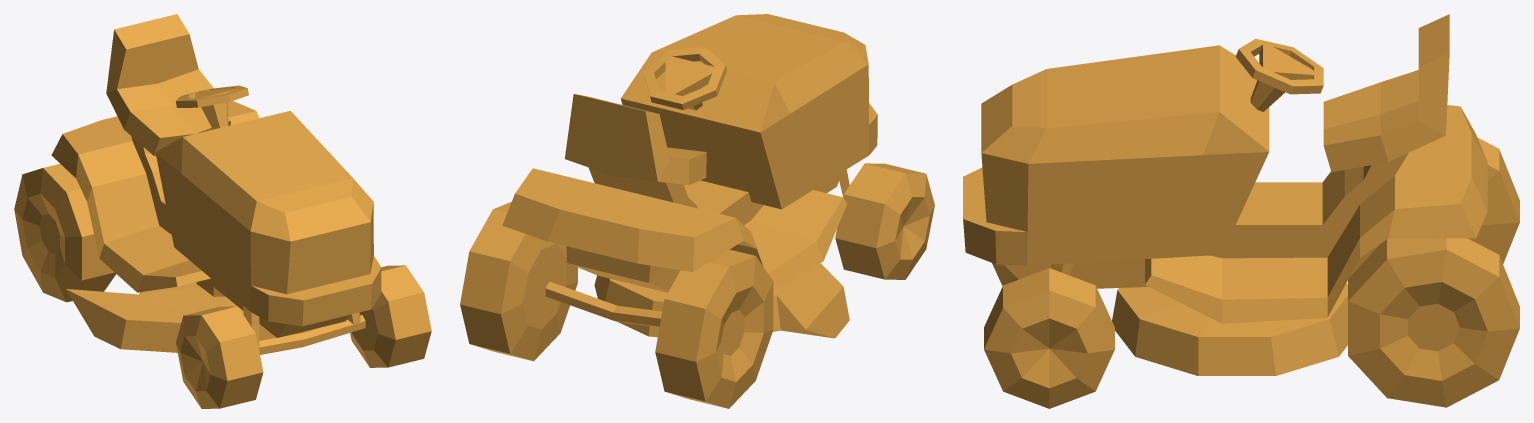
Rendered from lawn-mower-ride.glb.
3 views of the same model, side by side, from view 1: azimuth 30°, elevation 25°; view 2: azimuth 150°, elevation 25°; view 3: azimuth 270°, elevation 25° (orthographic). The views are drawn at different scales.
Parts seen in each view (by area): view 1: lawn-mower-ride-base, lawn-mower-ride_BR, lawn-mower-ride_FR, lawn-mower-ride_FL; view 2: lawn-mower-ride-base, lawn-mower-ride_BR, lawn-mower-ride_BL, lawn-mower-ride_FR; view 3: lawn-mower-ride-base, lawn-mower-ride_BL, lawn-mower-ride_FL, lawn-mower-ride_BR.
Boxes of the visible parts, x1,y1,x2,y2 form: lawn-mower-ride-base: (51, 14, 381, 354); lawn-mower-ride_BR: (14, 164, 115, 302); lawn-mower-ride_FR: (176, 306, 263, 408); lawn-mower-ride_FL: (350, 265, 431, 367); lawn-mower-ride-base: (502, 14, 877, 338); lawn-mower-ride_BR: (655, 249, 773, 408); lawn-mower-ride_BL: (460, 202, 577, 361); lawn-mower-ride_FR: (835, 163, 934, 279); lawn-mower-ride-base: (963, 14, 1487, 375); lawn-mower-ride_BL: (1348, 238, 1519, 407); lawn-mower-ride_FL: (984, 268, 1114, 408); lawn-mower-ride_BR: (1468, 137, 1519, 263).
Size of the model in its own units: 1.26 by 1.27 by 2.05.
